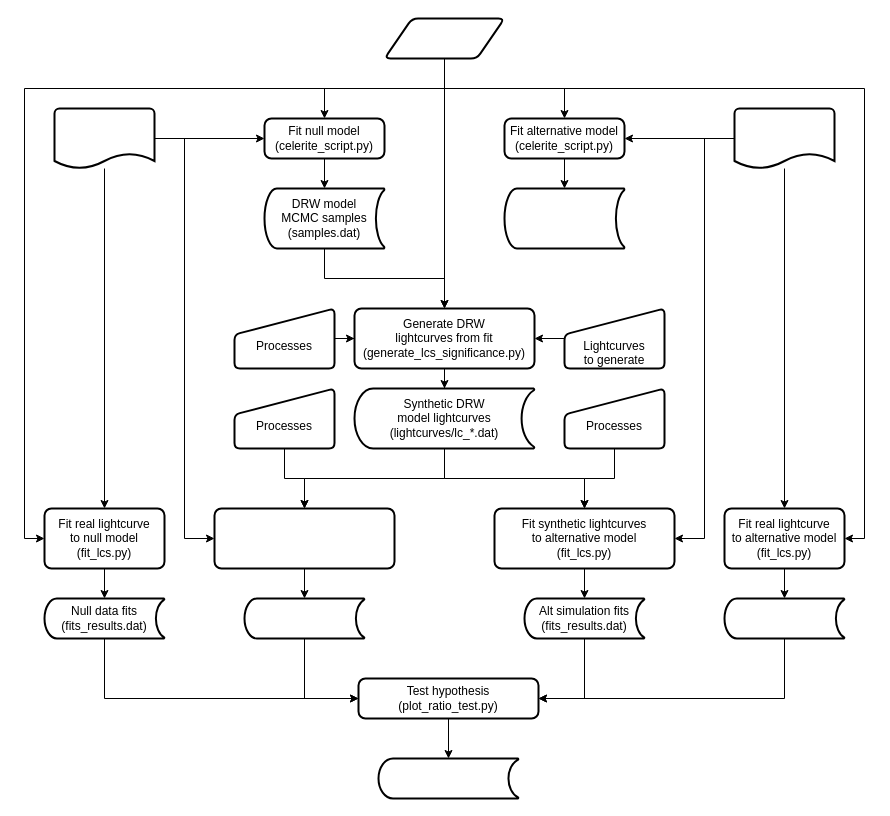
This 890x816 diagram has some shape labels left out. Each missing label, with the box of its shape:
Alt data fits (fits_results.dat): (723, 597, 845, 639)
Alternative model config: (733, 107, 835, 169)
Alternative model MCMC samples (samples.dat): (503, 187, 625, 249)
Fit synthetic lightcurves to null model (fit_lcs.py): (213, 507, 395, 569)
Improvement ratios (T_ratio.dat): (377, 757, 519, 799)
Null model config: (53, 107, 155, 169)
Null simulation fits (fits_results.dat): (243, 597, 365, 639)
Observed lightcurve: (383, 17, 505, 59)
